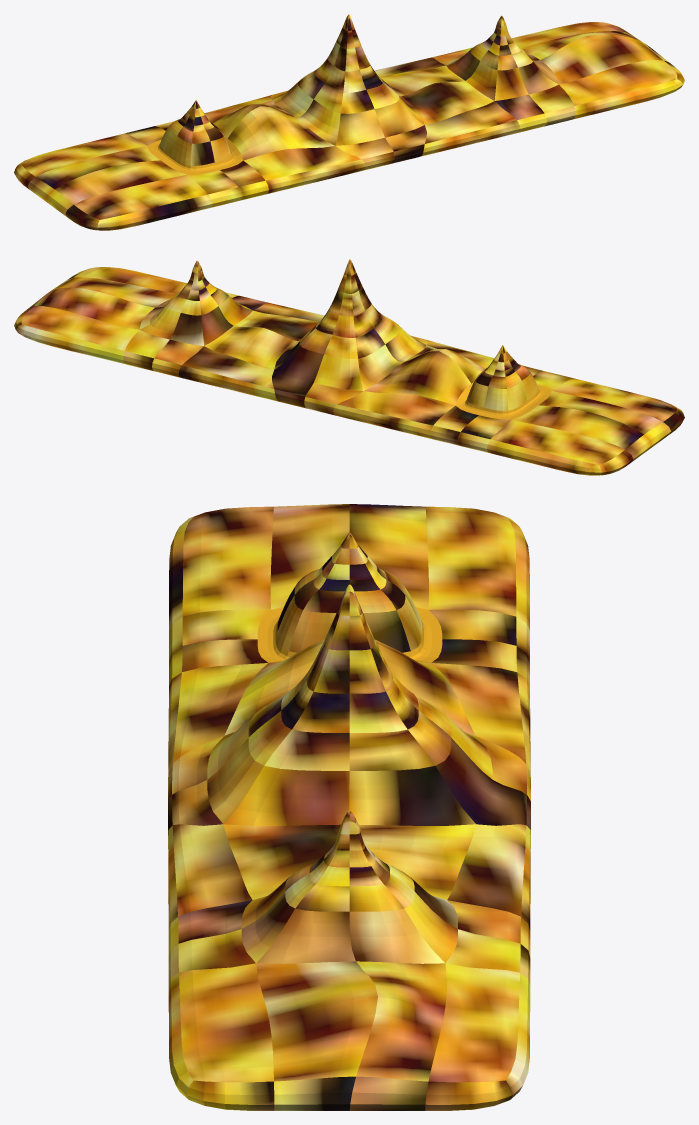
Rendered from Plataforma2.fbx.
3 views of the same model, one above another, from view 1: azimuth 30°, elevation 25°; view 2: azimuth 150°, elevation 25°; view 3: azimuth 270°, elevation 25° (orthographic). The views are drawn at different scales.
Parts seen in each view (by area): view 1: Plane; view 2: Plane; view 3: Plane.
Boxes of the visible parts, box(x1,y1,x2,y2) form: Plane: box(14, 14, 684, 230); Plane: box(14, 259, 684, 475); Plane: box(168, 504, 530, 1110).
Size of the model in its own units: 502 by 97.05 by 130.
